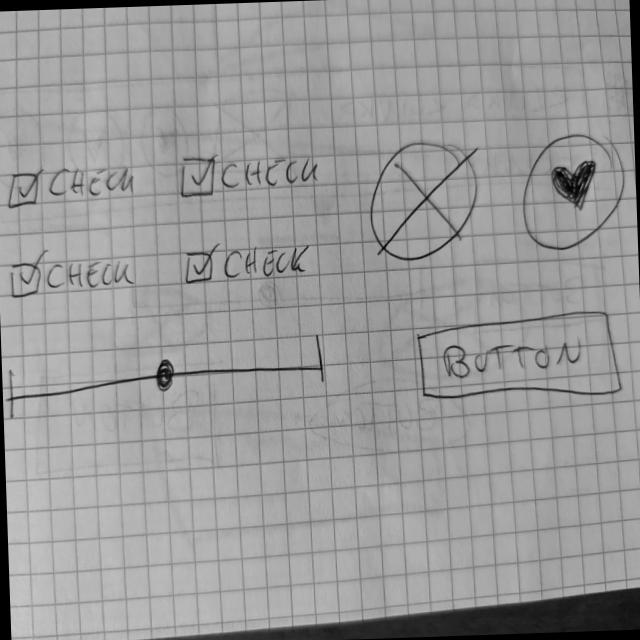button: (415, 307, 625, 405)
checkbox: (177, 150, 322, 201), (6, 162, 137, 211), (9, 255, 138, 303), (184, 242, 315, 287)
slider: (7, 331, 331, 423), (366, 141, 482, 266)
